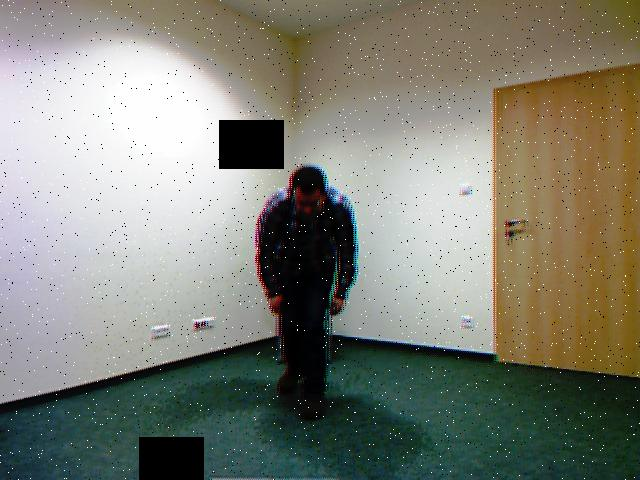bending: (246, 163, 366, 432)
